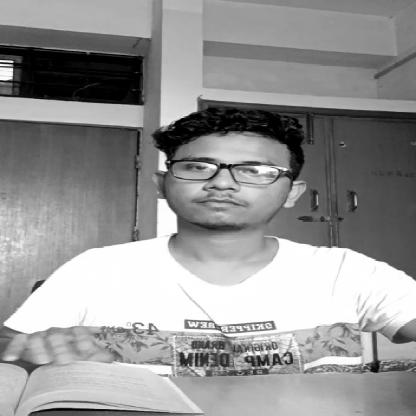Normal: (162, 107, 300, 230)
